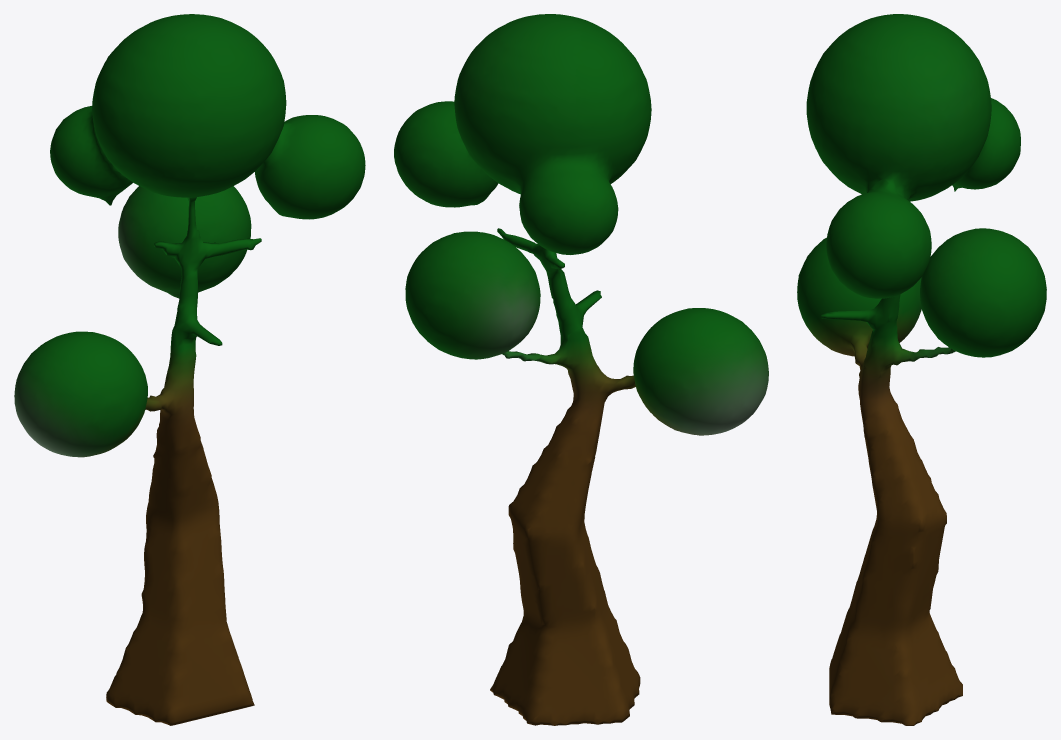
File: Bubbled_2.glb
3 renders of one model, left to right at view 1: azimuth 30°, elevation 25°; view 2: azimuth 150°, elevation 25°; view 3: azimuth 270°, elevation 25°, orthographic.
Parts seen in each view (by area): view 1: Bubbled_2; view 2: Bubbled_2; view 3: Bubbled_2.
Boxes of the visible parts, <box> form: Bubbled_2: <box>14,14,365,725</box>; Bubbled_2: <box>394,14,768,725</box>; Bubbled_2: <box>797,14,1046,725</box>.
Size of the model in its own units: 2.28 by 4.19 by 1.41.
